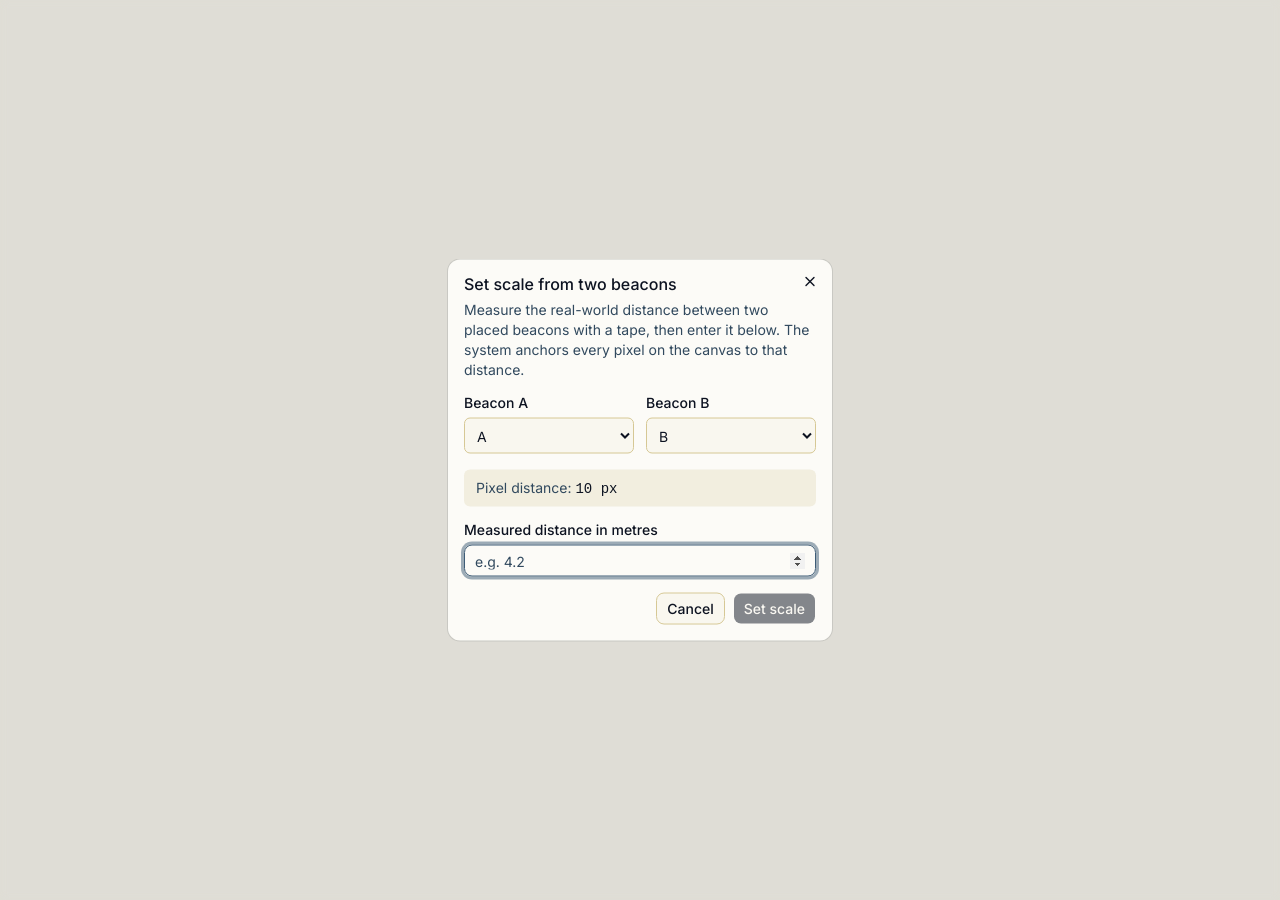
ScaleFromBeaconsDialog › keeps the submit button disabled while the metres input is empty or non-positive
Expected: the button "Set scale" is disabled, [733, 592, 816, 624]
Type "0" into the number field labelled "Measured distance in metres".
click(640, 560); type("0")  # box [464, 544, 816, 576]
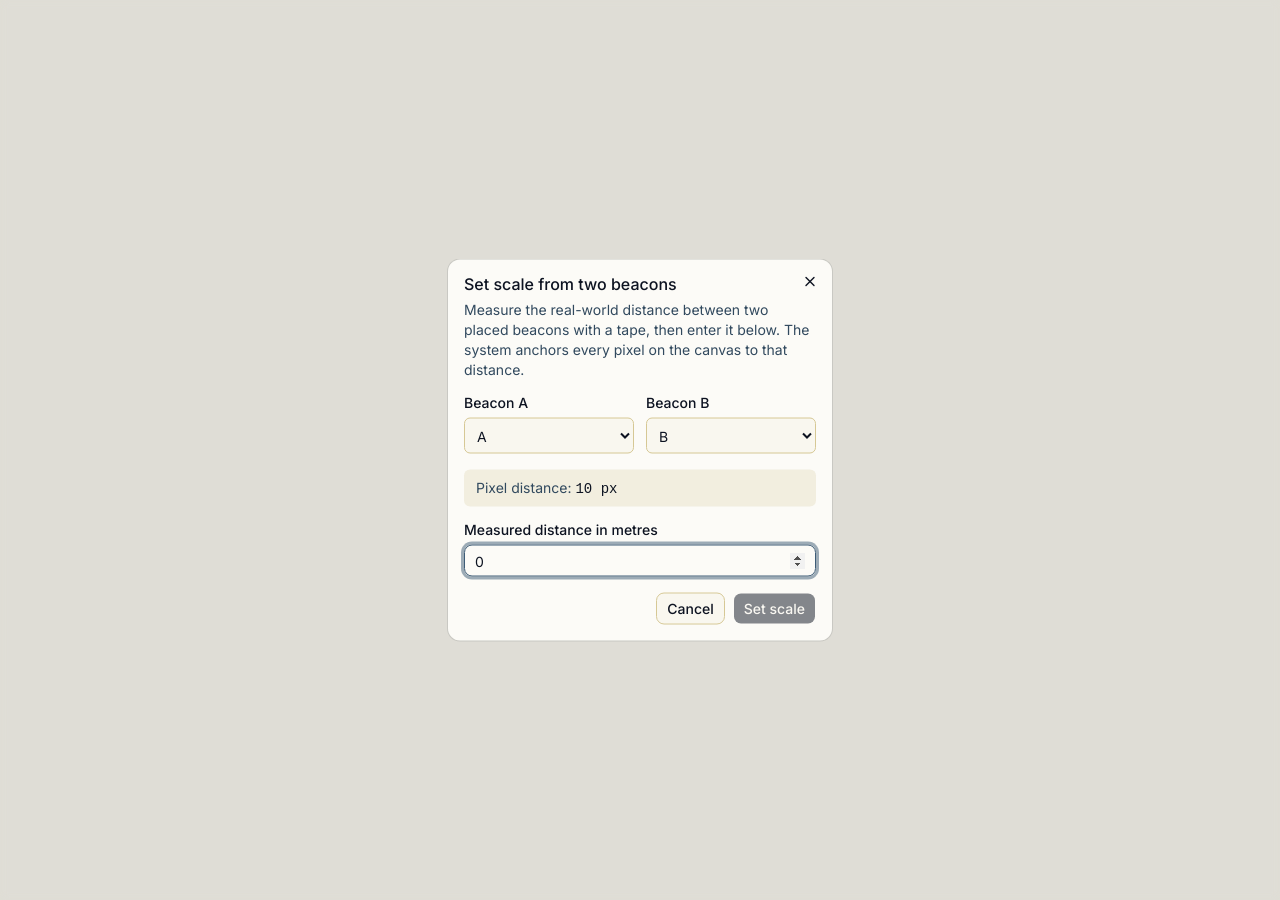
Expected: the button "Set scale" is disabled, [733, 592, 816, 624]
Replace the text in the number field labelled "Measured distance in metres" with "1.5" at (640, 560), box [464, 544, 816, 576]
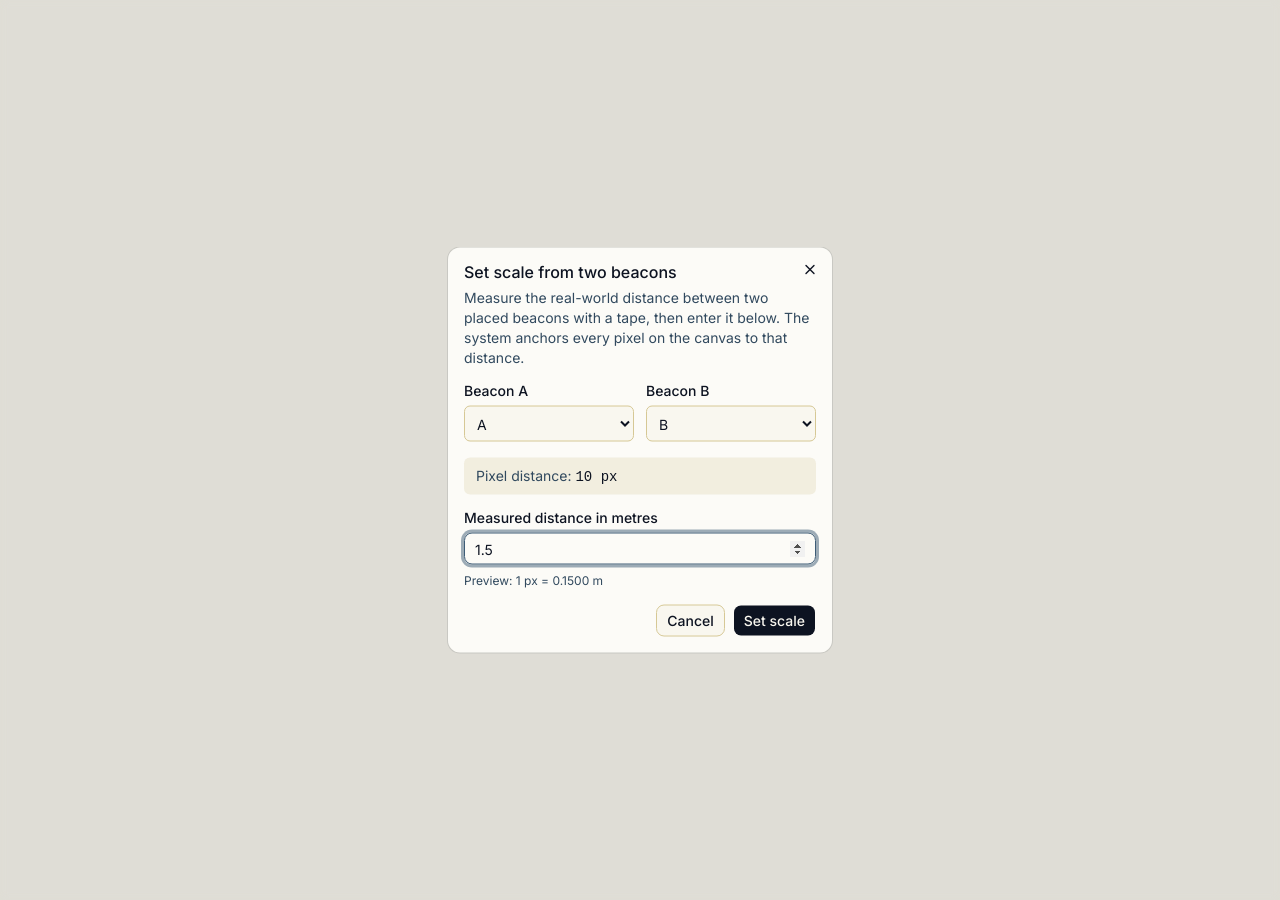
Now the button "Set scale" is enabled, box [733, 604, 816, 636]
